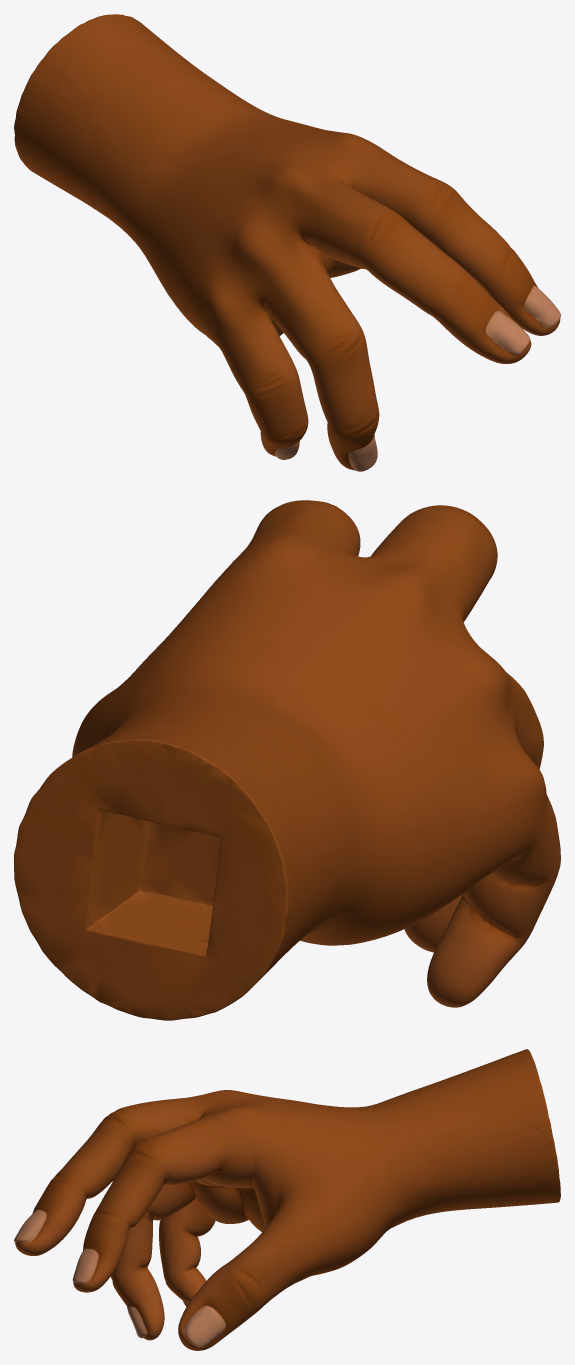
Rendered from player-hand-web.glb.
3 renders of one model, top to bottom at view 1: azimuth 30°, elevation 25°; view 2: azimuth 150°, elevation 25°; view 3: azimuth 270°, elevation 25°, orthographic. The views are drawn at different scales.
Visible parts, largest first — view 1: tripo_node_488c5857-8b9d-4241-94ac-b7fa8e30cf49; view 2: tripo_node_488c5857-8b9d-4241-94ac-b7fa8e30cf49; view 3: tripo_node_488c5857-8b9d-4241-94ac-b7fa8e30cf49.
Part boxes in pixels (x1,y1,x2,y2): tripo_node_488c5857-8b9d-4241-94ac-b7fa8e30cf49: (14,14,560,471); tripo_node_488c5857-8b9d-4241-94ac-b7fa8e30cf49: (14,500,560,1020); tripo_node_488c5857-8b9d-4241-94ac-b7fa8e30cf49: (14,1049,560,1350).
Size of the model in its own units: 0.56 by 0.5346 by 1.
Materials: 1 (1 with a texture image).
